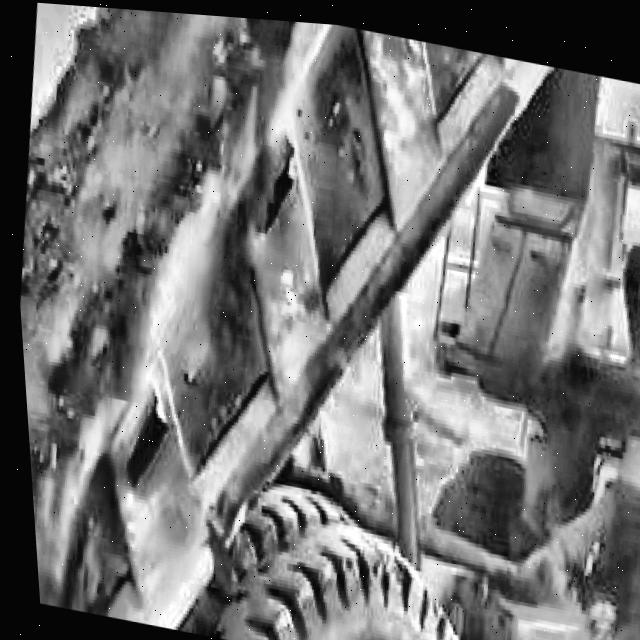dump_truck: (24, 16, 640, 640)
